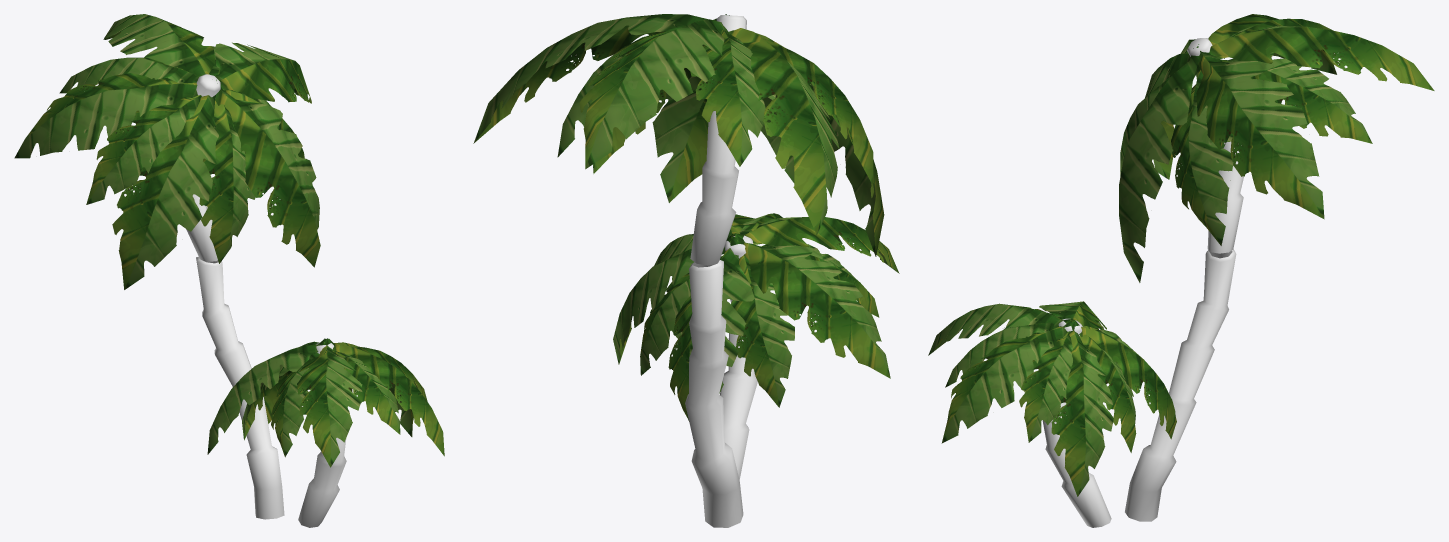
File: PalmTree.fbx
3 renders of one model, left to right at view 1: azimuth 30°, elevation 25°; view 2: azimuth 150°, elevation 25°; view 3: azimuth 270°, elevation 25°, orthographic. The views are drawn at different scales.
Parts seen in each view (by area): view 1: Plane.003, Plane.004; view 2: Plane.003, Plane.004; view 3: Plane.003, Plane.004.
Boxes of the visible parts, left/top/right/bottom form: Plane.003: left=14, top=14, right=320, bottom=519; Plane.004: left=207, top=338, right=444, bottom=527; Plane.003: left=473, top=14, right=884, bottom=527; Plane.004: left=613, top=213, right=899, bottom=479; Plane.003: left=1119, top=14, right=1434, bottom=521; Plane.004: left=928, top=301, right=1176, bottom=527.
Size of the model in its own units: 187 by 285 by 275.
2 materials, 1 textured.
